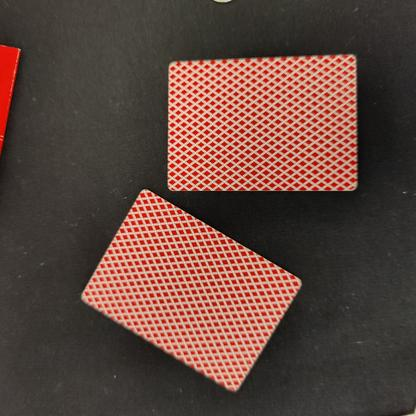card: (73, 187, 311, 400), (149, 48, 369, 197)
